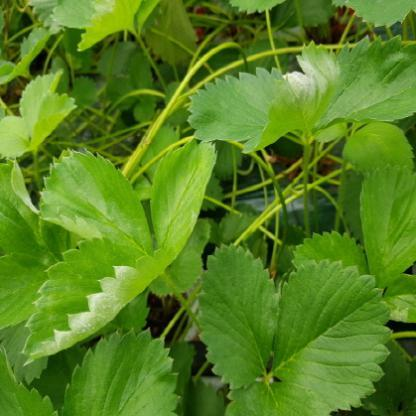Strawberry_Powdery_Mildew_Leaf: (21, 237, 163, 367), (186, 39, 342, 154)
